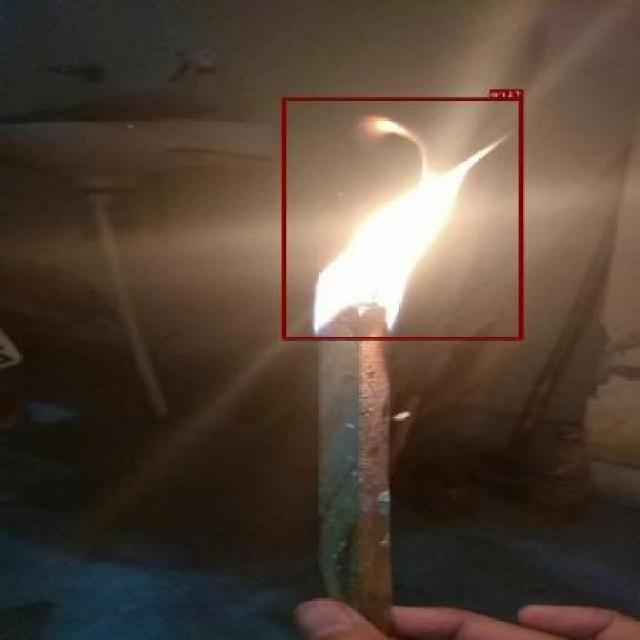Fire: (284, 96, 524, 338)
